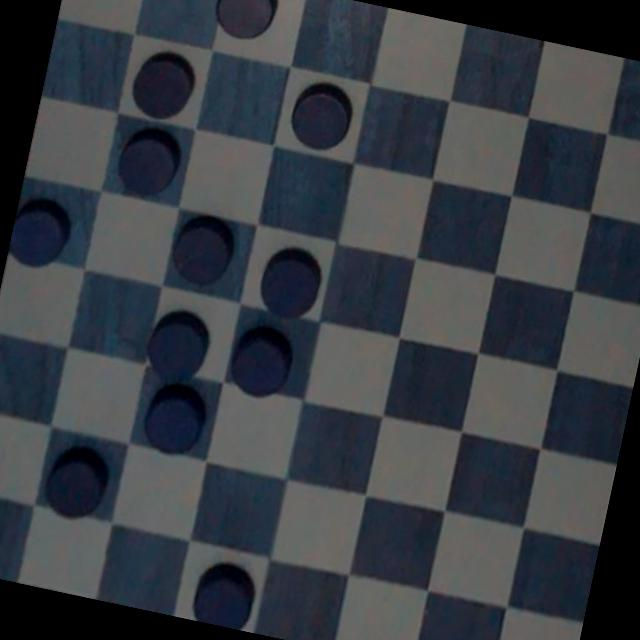BOARD: (0, 0, 640, 640)
black: (120, 36, 206, 125), (134, 302, 220, 388), (280, 70, 362, 160), (32, 432, 112, 524), (102, 117, 182, 197), (258, 238, 334, 322), (226, 318, 300, 404), (130, 388, 209, 462), (5, 194, 76, 274), (166, 208, 232, 291), (186, 557, 256, 631), (208, 0, 284, 48)
